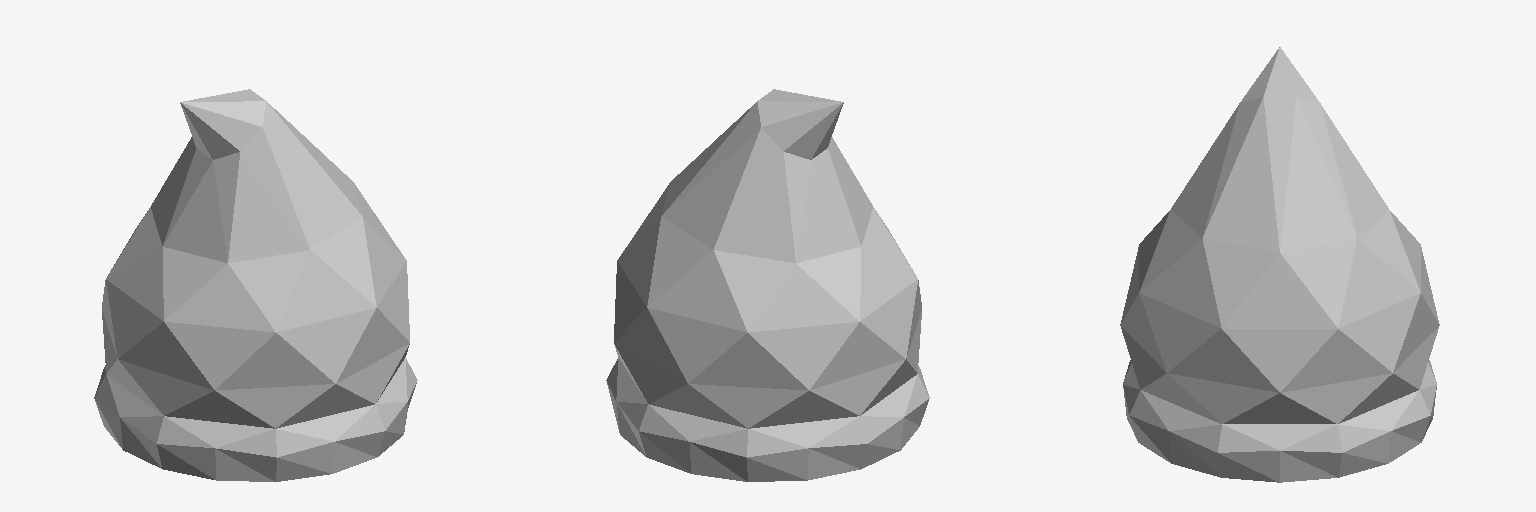
File: icecream_softserve_icecream_vanilla.obj
3 renders of one model, left to right at view 1: azimuth 30°, elevation 25°; view 2: azimuth 150°, elevation 25°; view 3: azimuth 270°, elevation 25°, orthographic.
Parts seen in each view (by area): view 1: icecream_softserve_icecream_vanilla_Sphere.129; view 2: icecream_softserve_icecream_vanilla_Sphere.129; view 3: icecream_softserve_icecream_vanilla_Sphere.129.
Boxes of the visible parts, x1,y1,x2,y2 form: icecream_softserve_icecream_vanilla_Sphere.129: [94, 89, 417, 481]; icecream_softserve_icecream_vanilla_Sphere.129: [606, 89, 929, 481]; icecream_softserve_icecream_vanilla_Sphere.129: [1120, 47, 1439, 482].
Size of the model in its own units: 0.4499 by 0.5359 by 0.45.